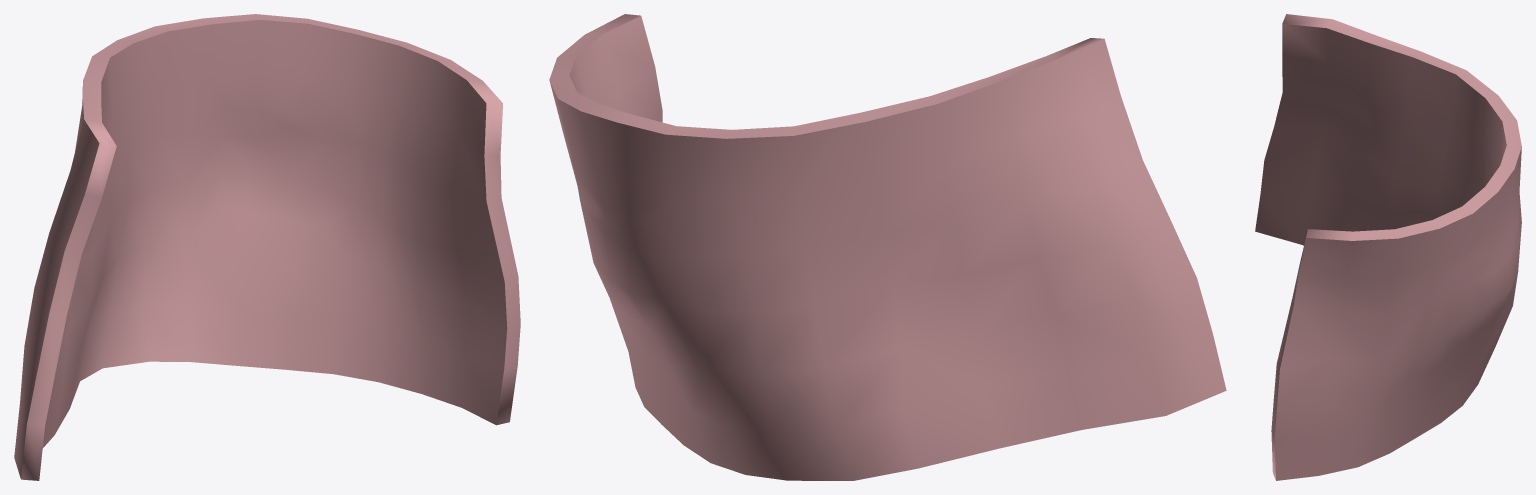
3 views of the same model, side by side, from view 1: azimuth 30°, elevation 25°; view 2: azimuth 150°, elevation 25°; view 3: azimuth 270°, elevation 25° (orthographic). The views are drawn at different scales.
Visible parts, largest first — view 1: ZA_57a87486a3f781a7; view 2: ZA_57a87486a3f781a7; view 3: ZA_57a87486a3f781a7.
Part boxes in pixels (box(x1,y1,x2,y2)): ZA_57a87486a3f781a7: box(14, 14, 520, 480); ZA_57a87486a3f781a7: box(549, 14, 1226, 480); ZA_57a87486a3f781a7: box(1255, 14, 1521, 480).
Bounding box in the file's own units: 0.0968 × 0.0667 × 0.0528.
